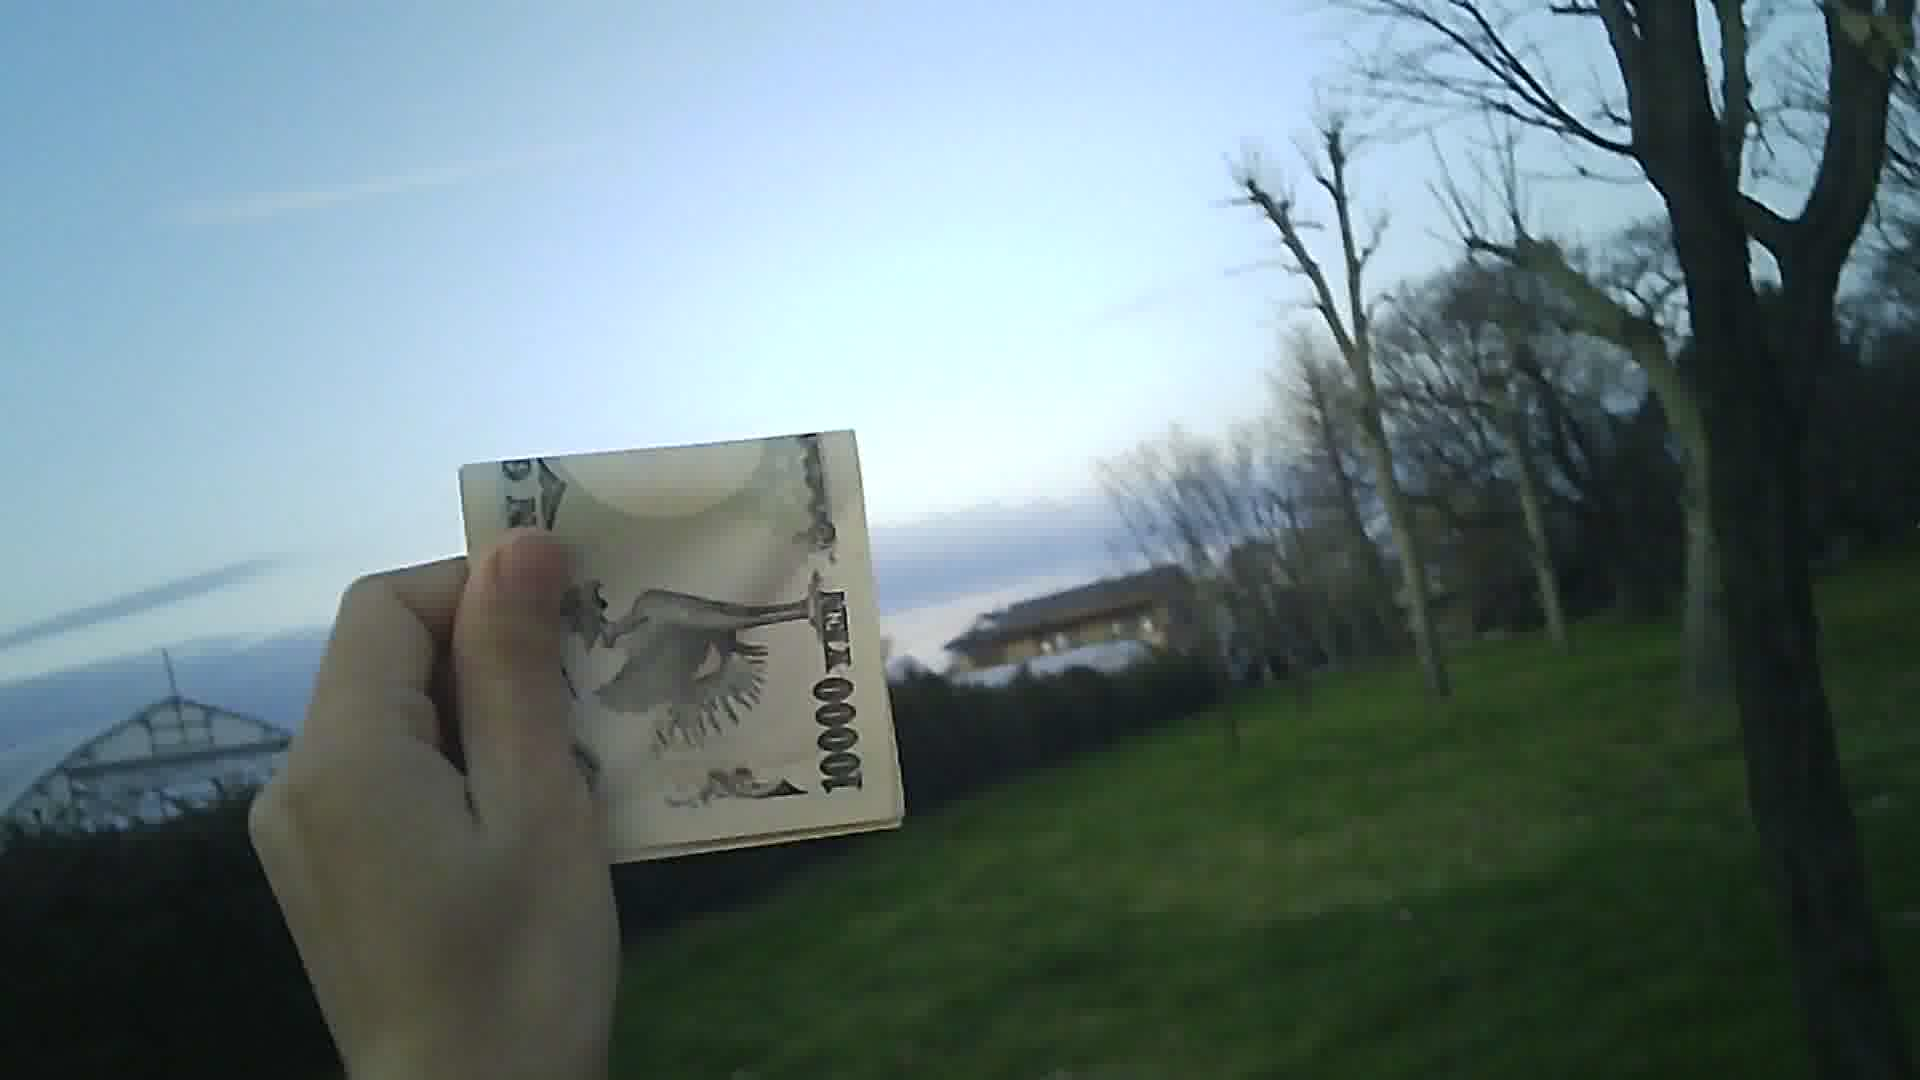10,000 Yen: (440, 378, 927, 901)
